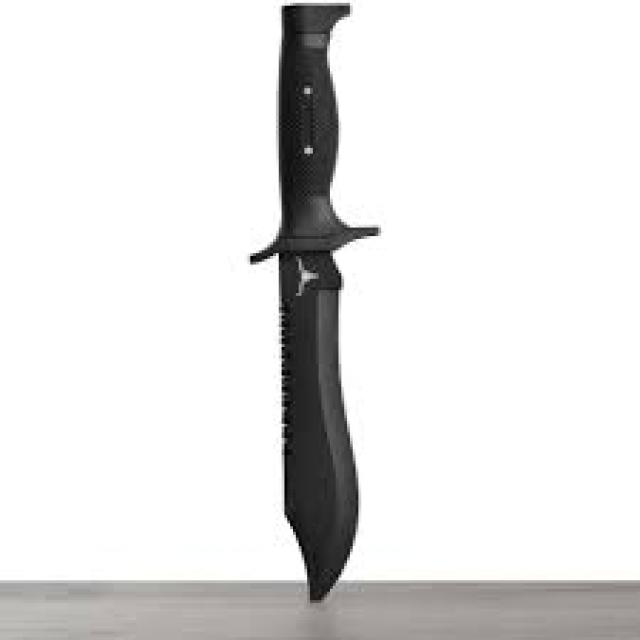knives: (242, 0, 384, 606)
